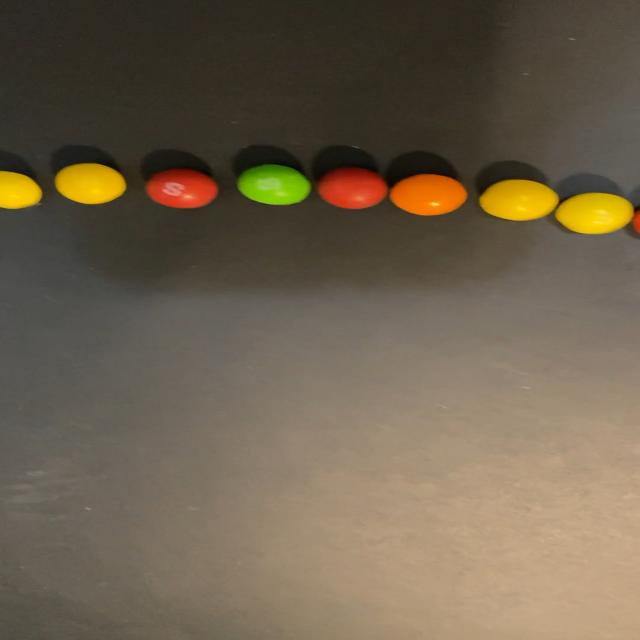smartie: (479, 179, 559, 220), (556, 192, 634, 234), (390, 174, 467, 215), (53, 162, 124, 204), (236, 164, 310, 204), (145, 168, 217, 208), (319, 167, 388, 208), (0, 170, 41, 209)
